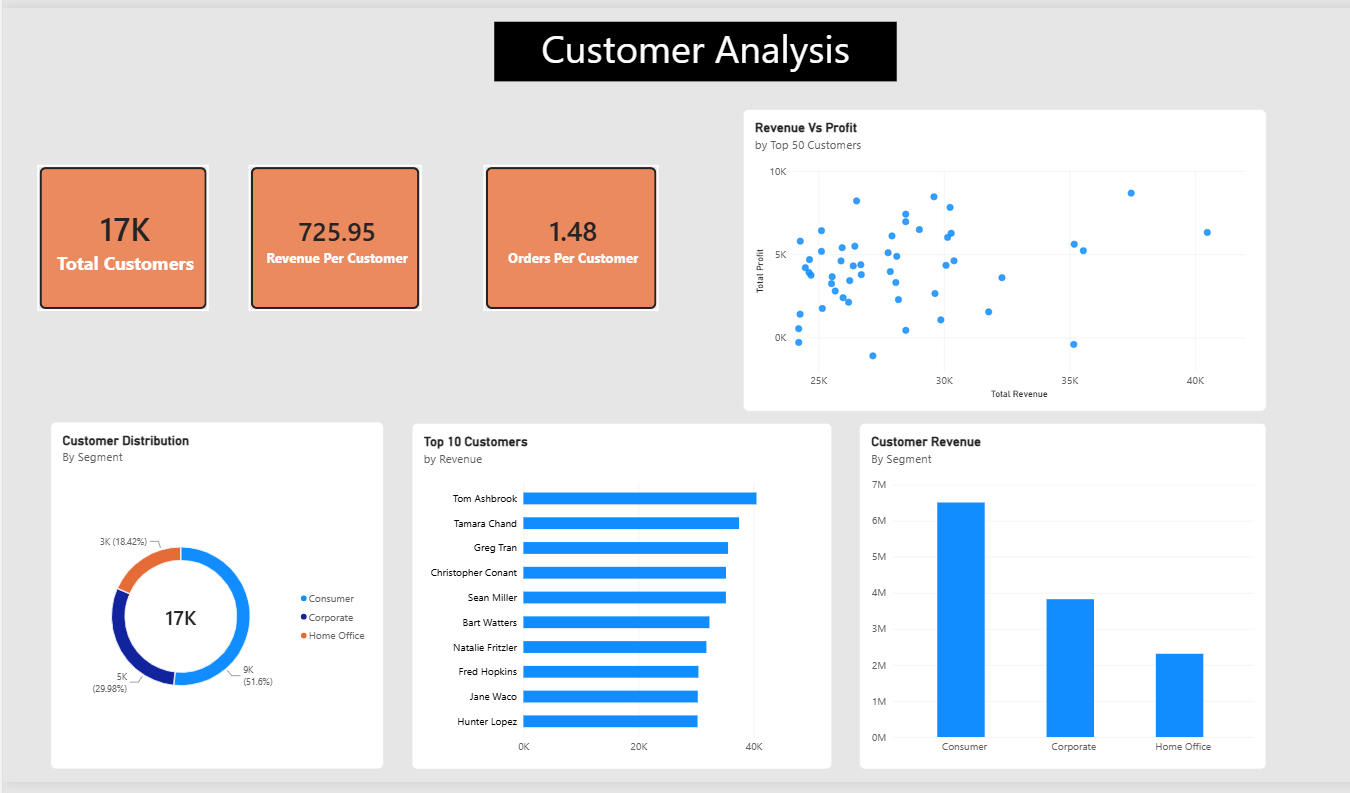

This screenshot's page, from the dashboard's own definition file:
{"tool":"powerbi","page":{"name":"Page 3","canvas":[1920,1080],"ordinal":2},"visuals":[{"type":"textbox","box":[685,20,561.7,83.3],"z":0},{"type":"cardVisual","fields":{"Data":["Orders.Total Customers"]},"box":[46.7,218.3,241.7,206.7],"z":1},{"type":"cardVisual","fields":{"Data":["Orders.Revenue Per Customer"]},"box":[341.7,218.3,243.3,206.7],"z":4},{"type":"cardVisual","fields":{"Data":["Orders.Orders Per Customer"]},"box":[670,218.3,246.7,206.7],"z":5},{"type":"clusteredBarChart","title":"Top 10 Customers","fields":{"Category":["Orders.Customer Name"],"Y":["Orders.Total Revenue"]},"box":[570,578.3,586.7,483.3],"z":6},{"type":"scatterChart","title":"Revenue Vs Profit","fields":{"Category":["Orders.Customer Name"],"X":["Orders.Total Revenue"],"Y":["Orders.Total Profit"]},"box":[1033.3,141.7,730,421.7],"z":7},{"type":"clusteredColumnChart","title":"Customer Revenue","fields":{"Category":["Orders.Segment"],"Y":["Orders.Total Revenue"]},"box":[1195,578.3,568.3,483.3],"z":8},{"type":"donutChart","title":"Customer Distribution","fields":{"Category":["Orders.Segment"],"Y":["Orders.Total Customers"]},"box":[66.7,576.7,465,485],"z":9}]}

Visuals, with their boxes on the page's 1920x1080 design canvas (x1, y1, x2, y2). These are canvas units, not pixel positions in the 1350x793 screenshot, which may show the page scaled, cropped or inside an application window:
textbox: detection(685, 20, 1247, 103)
cardVisual - Orders.Total Customers: detection(47, 218, 288, 425)
cardVisual - Orders.Revenue Per Customer: detection(342, 218, 585, 425)
cardVisual - Orders.Orders Per Customer: detection(670, 218, 917, 425)
"Top 10 Customers" clusteredBarChart: detection(570, 578, 1157, 1062)
"Revenue Vs Profit" scatterChart: detection(1033, 142, 1763, 563)
"Customer Revenue" clusteredColumnChart: detection(1195, 578, 1763, 1062)
"Customer Distribution" donutChart: detection(67, 577, 532, 1062)
